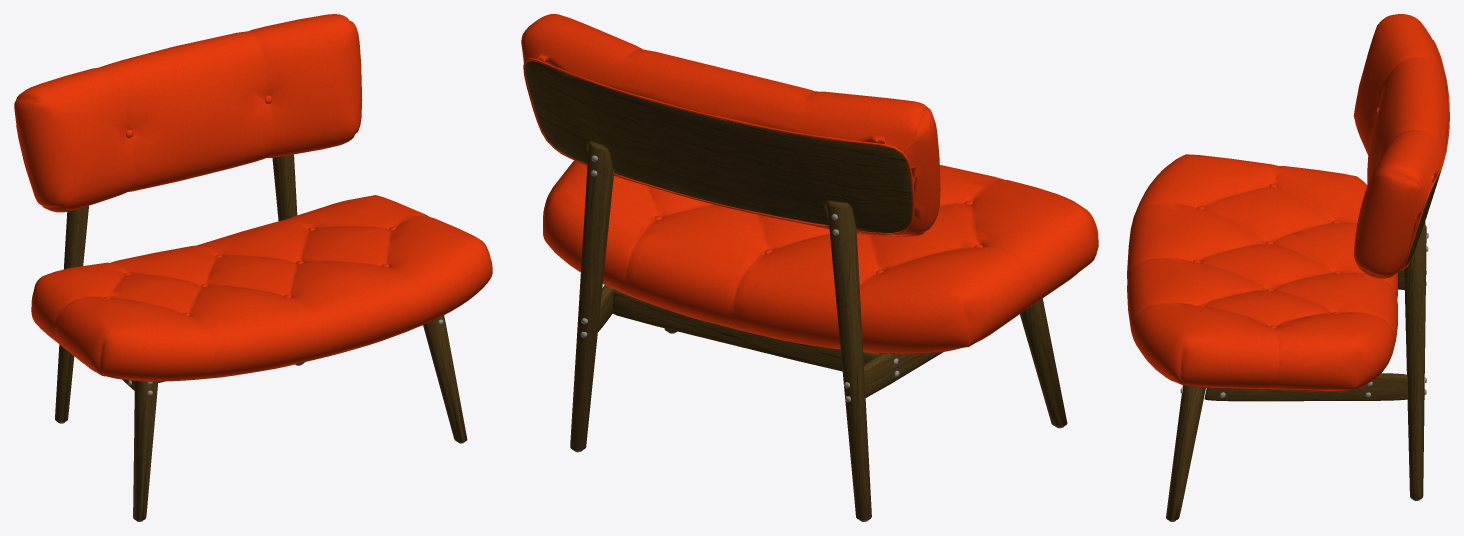
Rendered from SheenChair.glb.
3 views of the same model, side by side, from view 1: azimuth 30°, elevation 25°; view 2: azimuth 150°, elevation 25°; view 3: azimuth 270°, elevation 25° (orthographic). The views are drawn at different scales.
Parts seen in each view (by area): view 1: SheenChair_fabric, SheenChair_wood; view 2: SheenChair_fabric, SheenChair_wood; view 3: SheenChair_fabric, SheenChair_wood.
Part boxes in pixels (x1,y1,x2,y2): SheenChair_fabric: (14, 14, 492, 381); SheenChair_wood: (55, 154, 467, 520); SheenChair_fabric: (521, 14, 1098, 354); SheenChair_wood: (525, 61, 1067, 520); SheenChair_fabric: (1127, 14, 1449, 391); SheenChair_wood: (1166, 170, 1441, 520).
Bounding box in the file's own units: 0.8265 × 0.686 × 0.57.
Materials: 4 (3 with a texture image).
